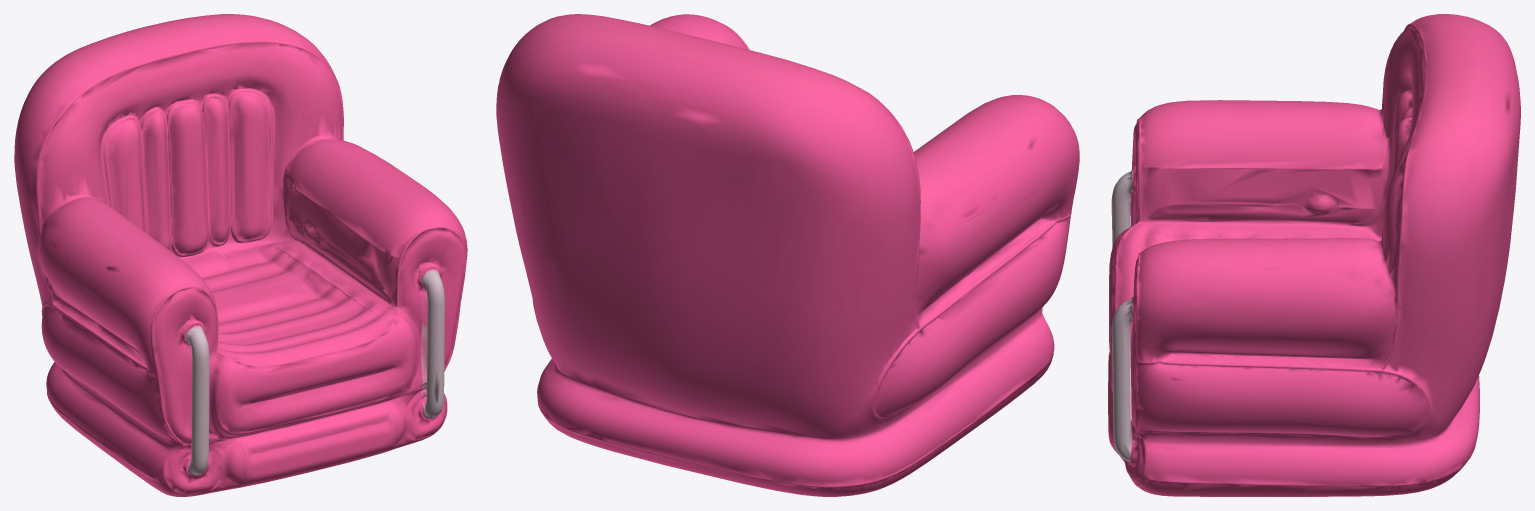
File: pink-mini-sofa.glb
3 views of the same model, side by side, from view 1: azimuth 30°, elevation 25°; view 2: azimuth 150°, elevation 25°; view 3: azimuth 270°, elevation 25° (orthographic). The views are drawn at different scales.
Parts seen in each view (by area): view 1: material; view 2: material; view 3: material.
Part boxes in pixels (x1=…): material: x1=14, y1=14, x2=467, y2=496; material: x1=496, y1=14, x2=1079, y2=496; material: x1=1108, y1=14, x2=1520, y2=496.
Size of the model in its own units: 0.8445 by 0.7878 by 0.8001.
Materials: 1 (1 with a texture image).
